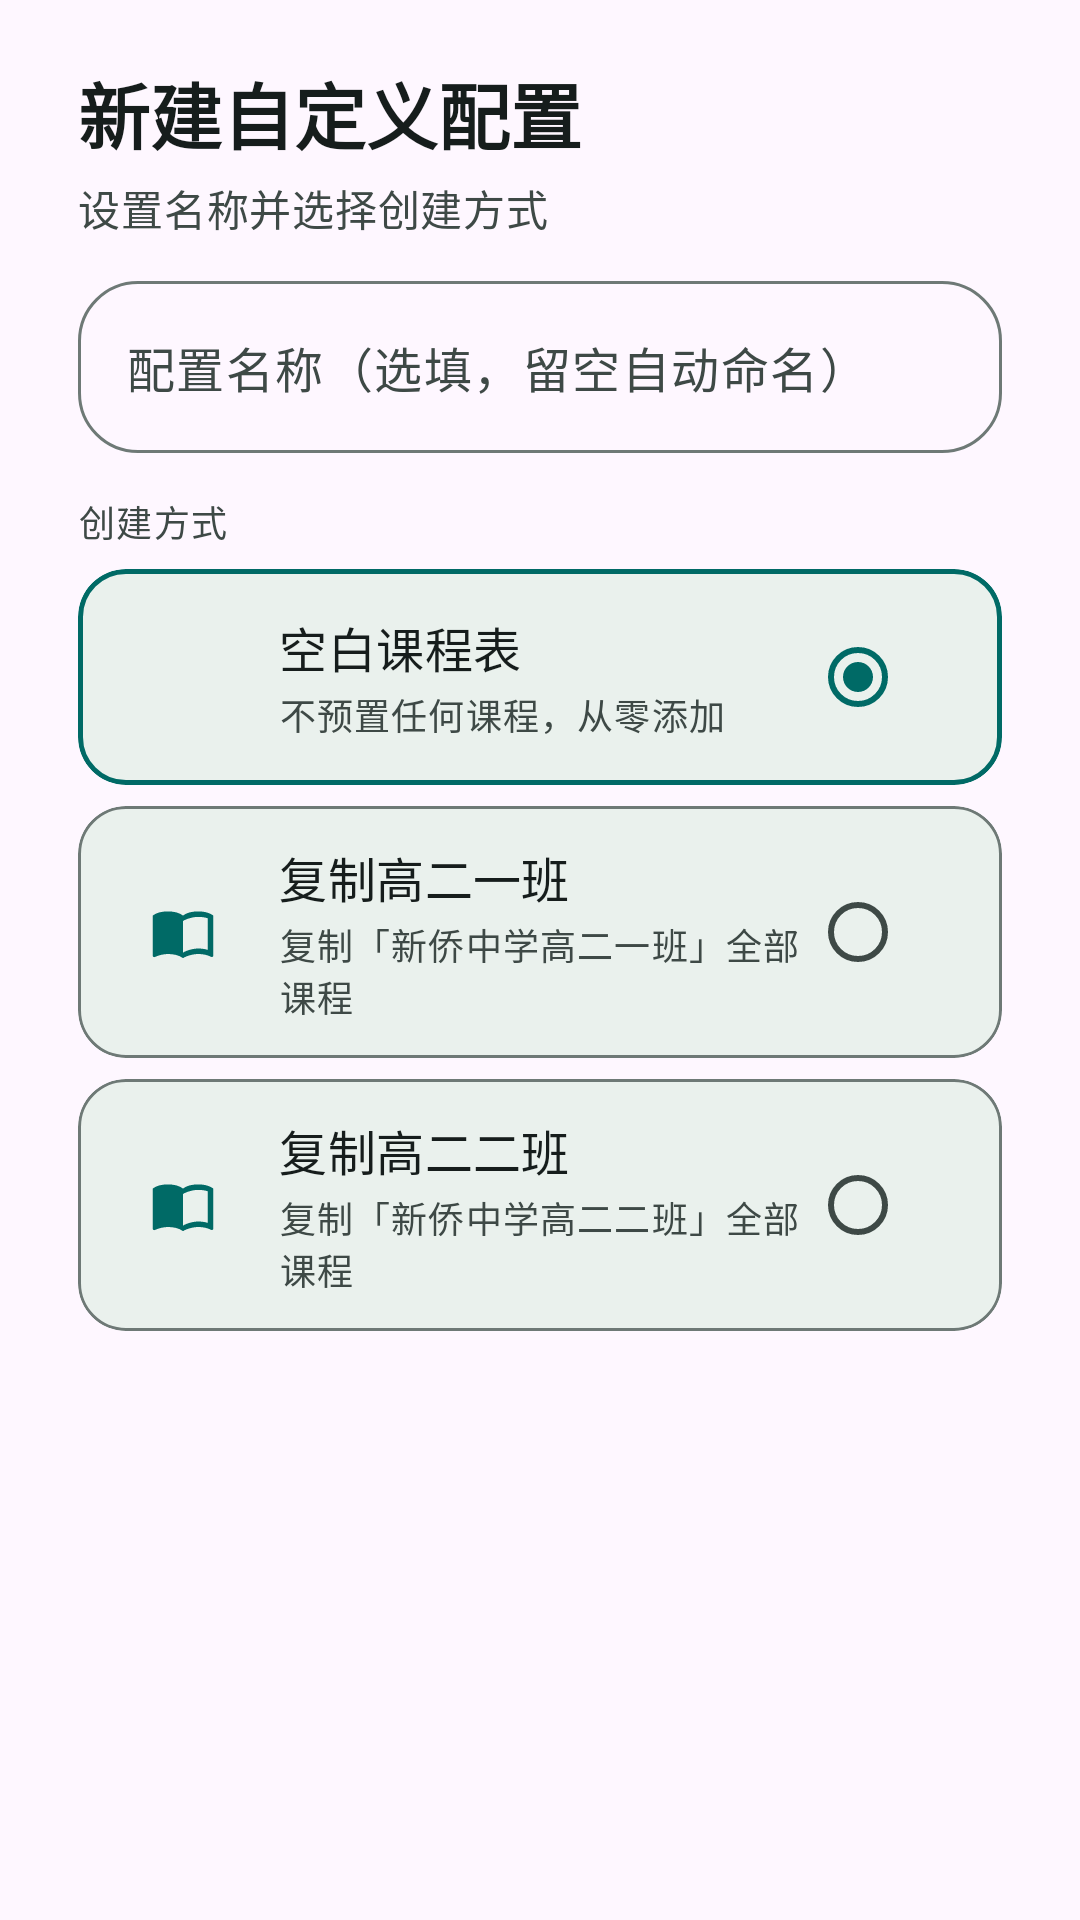

Locate icon controls on the screen. Image size 1080px×1920px, boxes as (x1=x1, y1=y1, x2=x2, y2=y2).
book: (x1=152, y1=911, x2=214, y2=958), (x1=152, y1=1184, x2=214, y2=1231)
